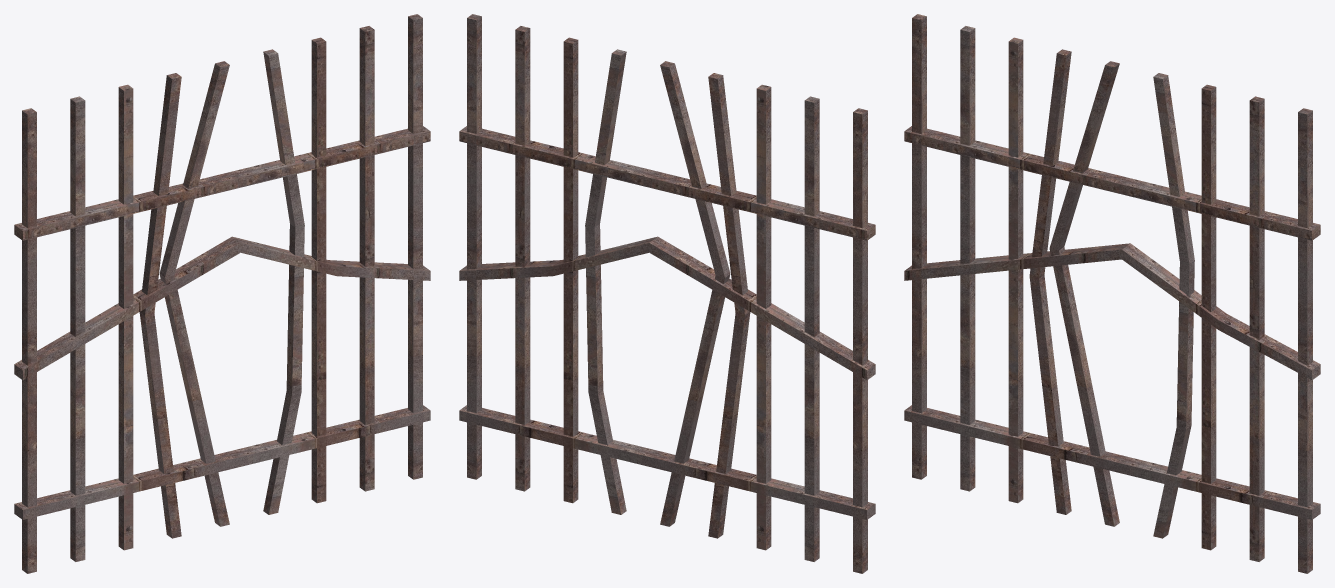
Rendered from fence_hard_broken.glb.
3 renders of one model, left to right at view 1: azimuth 30°, elevation 25°; view 2: azimuth 150°, elevation 25°; view 3: azimuth 330°, elevation 25°, orthographic.
Parts seen in each view (by area): view 1: Fence_01; view 2: Fence_01; view 3: Fence_01.
Boxes of the visible parts, left/top/right/bottom form: Fence_01: left=14, top=14, right=430, bottom=573; Fence_01: left=459, top=14, right=875, bottom=573; Fence_01: left=904, top=14, right=1320, bottom=573.
Bounding box in the file's own units: 2.42 × 2.6 × 0.0881.
1 material, 1 textured.
